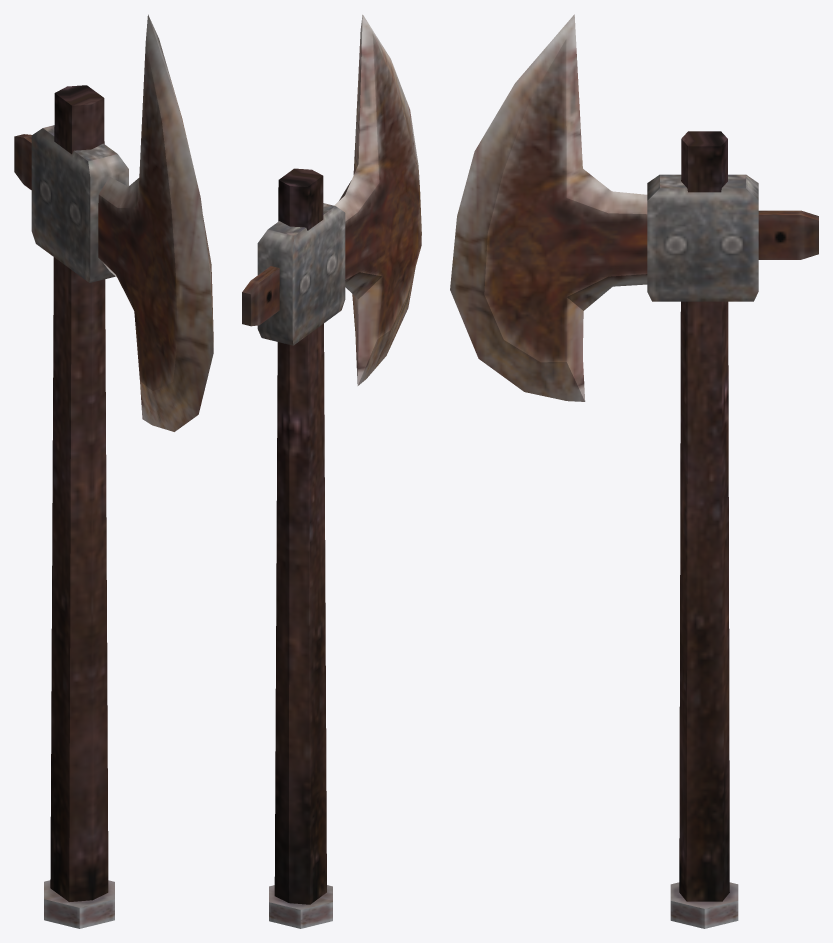
The model's file is Axe.fbx.
The picture shows the model from 3 angles, left to right: view 1: azimuth 30°, elevation 25°; view 2: azimuth 150°, elevation 25°; view 3: azimuth 270°, elevation 25°; orthographic projection. The views are drawn at different scales.
Parts seen in each view (by area): view 1: ono; view 2: ono; view 3: ono.
Part boxes in pixels (x1=…): ono: x1=14, y1=14, x2=213, y2=928; ono: x1=242, y1=14, x2=421, y2=928; ono: x1=450, y1=14, x2=818, y2=928.
Size of the model in its own units: 7.31 by 93.41 by 34.76.
Materials: 1 (1 with a texture image).
